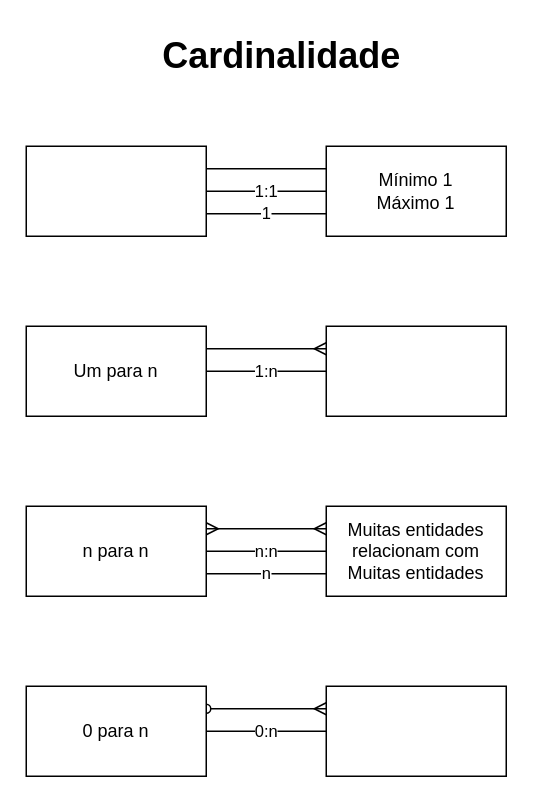
The diagram is 533 pixels wide and 803 high, and some of its shapes have lost their labels. Here are the shapes that lost their labels. From the top down, the centre of each, then its label:
At [115,190]: "Um para um".
At [415,370]: "Mínimo 1 Máximo n".
